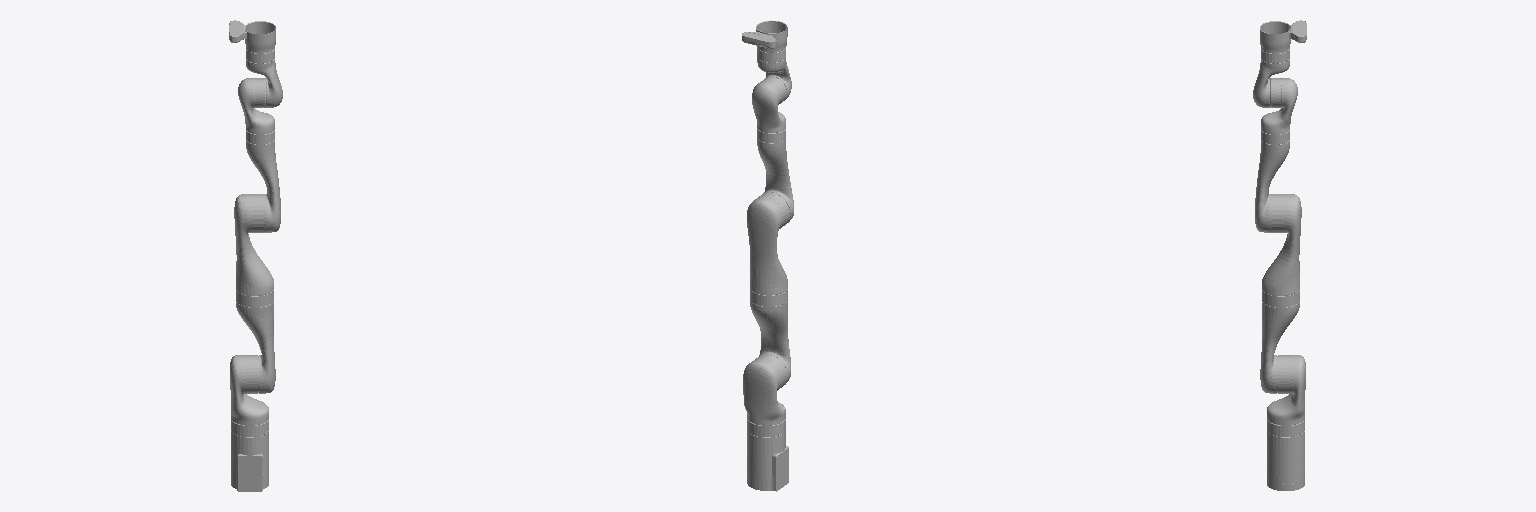
robot.urdf — GEN3_URDF_V12:
<robot name="GEN3_URDF_V12">
  <link name="base_link">
    <inertial>
      <origin xyz="-0.000648 -0.000166 0.084487" rpy="0 0 0" />
      <mass value="1.697" />
      <inertia ixx="0.004622" ixy="9E-06" ixz="6E-05" iyy="0.004495" iyz="9E-06" izz="0.002079" />
    </inertial>
    <visual>
      <origin xyz="0 0 0" rpy="0 0 0" />
      <geometry>
        <mesh filename="package://project/script/environment_description/gen3/7dof/meshes/base_link.obj" />
      </geometry>
      <material name="">
        <color rgba="0.75294 0.75294 0.75294 1" />
      </material>
    </visual>
    <collision>
      <origin xyz="0 0 0" rpy="0 0 0" />
      <geometry>
        <mesh filename="package://project/script/environment_description/gen3/7dof/meshes/base_link.obj" />
      </geometry>
    </collision>
  </link>
  <link name="Shoulder_Link">
    <inertial>
      <origin xyz="-2.3E-05 -0.010364 -0.07336" rpy="0 0 0" />
      <mass value="1.3773" />
      <inertia ixx="0.00457" ixy="1E-06" ixz="2E-06" iyy="0.004831" iyz="0.000448" izz="0.001409" />
    </inertial>
    <visual>
      <origin xyz="0 0 0" rpy="0 0 0" />
      <geometry>
        <mesh filename="package://project/script/environment_description/gen3/7dof/meshes/shoulder_link.obj" />
      </geometry>
      <material name="">
        <color rgba="0.75294 0.75294 0.75294 1" />
      </material>
    </visual>
    <collision>
      <origin xyz="0 0 0" rpy="0 0 0" />
      <geometry>
        <mesh filename="package://project/script/environment_description/gen3/7dof/meshes/shoulder_link.obj" />
      </geometry>
    </collision>
  </link>
  <joint name="Actuator1" type="continuous">
    <origin xyz="0 0 0.15643" rpy="3.1416 2.7629E-18 -4.9305E-36" />
    <parent link="base_link" />
    <child link="Shoulder_Link" />
    <axis xyz="0 0 1" />
    <limit lower="-1.57" upper="1.57" effort="39" velocity="0.8727" />
  </joint>
  <link name="HalfArm1_Link">
    <inertial>
      <origin xyz="-4.4E-05 -0.09958 -0.013278" rpy="0 0 0" />
      <mass value="1.1636" />
      <inertia ixx="0.011088" ixy="5E-06" ixz="0" iyy="0.001072" iyz="-0.000691" izz="0.011255" />
    </inertial>
    <visual>
      <origin xyz="0 0 0" rpy="0 0 0" />
      <geometry>
        <mesh filename="package://project/script/environment_description/gen3/7dof/meshes/half_arm_1_link.obj" />
      </geometry>
      <material name="">
        <color rgba="0.75294 0.75294 0.75294 1" />
      </material>
    </visual>
    <collision>
      <origin xyz="0 0 0" rpy="0 0 0" />
      <geometry>
        <mesh filename="package://project/script/environment_description/gen3/7dof/meshes/half_arm_1_link.obj" />
      </geometry>
    </collision>
  </link>
  <joint name="Actuator2" type="revolute">
    <origin xyz="0 0.005375 -0.12838" rpy="1.5708 2.1343E-17 -1.1102E-16" />
    <parent link="Shoulder_Link" />
    <child link="HalfArm1_Link" />
    <axis xyz="0 0 1" />
    <limit lower="-2.41" upper="2.41" effort="39" velocity="0.8727" />
  </joint>
  <link name="HalfArm2_Link">
    <inertial>
      <origin xyz="-4.4E-05 -0.006641 -0.117892" rpy="0 0 0" />
      <mass value="1.1636" />
      <inertia ixx="0.010932" ixy="0" ixz="-7E-06" iyy="0.011127" iyz="0.000606" izz="0.001043" />
    </inertial>
    <visual>
      <origin xyz="0 0 0" rpy="0 0 0" />
      <geometry>
        <mesh filename="package://project/script/environment_description/gen3/7dof/meshes/half_arm_2_link.obj" />
      </geometry>
      <material name="">
        <color rgba="0.75294 0.75294 0.75294 1" />
      </material>
    </visual>
    <collision>
      <origin xyz="0 0 0" rpy="0 0 0" />
      <geometry>
        <mesh filename="package://project/script/environment_description/gen3/7dof/meshes/half_arm_2_link.obj" />
      </geometry>
    </collision>
  </link>
  <joint name="Actuator3" type="continuous">
    <origin xyz="0 -0.21038 -0.006375" rpy="-1.5708 1.2326E-32 -2.9122E-16" />
    <parent link="HalfArm1_Link" />
    <child link="HalfArm2_Link" />
    <axis xyz="0 0 1" />
    <limit lower="-1.57" upper="1.57" effort="39" velocity="0.8727" />
  </joint>
  <link name="ForeArm_Link">
    <inertial>
      <origin xyz="-1.8E-05 -0.075478 -0.015006" rpy="0 0 0" />
      <mass value="0.9302" />
      <inertia ixx="0.008147" ixy="-1E-06" ixz="0" iyy="0.000631" iyz="-0.0005" izz="0.008316" />
    </inertial>
    <visual>
      <origin xyz="0 0 0" rpy="0 0 0" />
      <geometry>
        <mesh filename="package://project/script/environment_description/gen3/7dof/meshes/forearm_link.obj" />
      </geometry>
      <material name="">
        <color rgba="0.75294 0.75294 0.75294 1" />
      </material>
    </visual>
    <collision>
      <origin xyz="0 0 0" rpy="0 0 0" />
      <geometry>
        <mesh filename="package://project/script/environment_description/gen3/7dof/meshes/forearm_link.obj" />
      </geometry>
    </collision>
  </link>
  <joint name="Actuator4" type="revolute">
    <origin xyz="0 0.006375 -0.21038" rpy="1.5708 -6.6954E-17 -1.6653E-16" />
    <parent link="HalfArm2_Link" />
    <child link="ForeArm_Link" />
    <axis xyz="0 0 1" />
    <limit lower="-2.66" upper="2.66" effort="39" velocity="0.8727" />
  </joint>
  <link name="SphericalWrist1_Link">
    <inertial>
      <origin xyz="1E-06 -0.009432 -0.063883" rpy="0 0 0" />
      <mass value="0.6781" />
      <inertia ixx="0.001596" ixy="0" ixz="0" iyy="0.001607" iyz="0.000256" izz="0.000399" />
    </inertial>
    <visual>
      <origin xyz="0 0 0" rpy="0 0 0" />
      <geometry>
        <mesh filename="package://project/script/environment_description/gen3/7dof/meshes/spherical_wrist_1_link.obj" />
      </geometry>
      <material name="">
        <color rgba="0.75294 0.75294 0.75294 1" />
      </material>
    </visual>
    <collision>
      <origin xyz="0 0 0" rpy="0 0 0" />
      <geometry>
        <mesh filename="package://project/script/environment_description/gen3/7dof/meshes/spherical_wrist_1_link.obj" />
      </geometry>
    </collision>
  </link>
  <joint name="Actuator5" type="continuous">
    <origin xyz="0 -0.20843 -0.006375" rpy="-1.5708 2.2204E-16 -6.373E-17" />
    <parent link="ForeArm_Link" />
    <child link="SphericalWrist1_Link" />
    <axis xyz="0 0 1" />
    <limit lower="-1.57" upper="1.57" effort="9" velocity="0.8727" />
  </joint>
  <link name="SphericalWrist2_Link">
    <inertial>
      <origin xyz="1E-06 -0.045483 -0.00965" rpy="0 0 0" />
      <mass value="0.6781" />
      <inertia ixx="0.001641" ixy="0" ixz="0" iyy="0.00041" iyz="-0.000278" izz="0.001641" />
    </inertial>
    <visual>
      <origin xyz="0 0 0" rpy="0 0 0" />
      <geometry>
        <mesh filename="package://project/script/environment_description/gen3/7dof/meshes/spherical_wrist_2_link.obj" />
      </geometry>
      <material name="">
        <color rgba="0.75294 0.75294 0.75294 1" />
      </material>
    </visual>
    <collision>
      <origin xyz="0 0 0" rpy="0 0 0" />
      <geometry>
        <mesh filename="package://project/script/environment_description/gen3/7dof/meshes/spherical_wrist_2_link.obj" />
      </geometry>
    </collision>
  </link>
  <joint name="Actuator6" type="revolute">
    <origin xyz="0 0.00017505 -0.10593" rpy="1.5708 9.2076E-28 -8.2157E-15" />
    <parent link="SphericalWrist1_Link" />
    <child link="SphericalWrist2_Link" />
    <axis xyz="0 0 1" />
    <limit lower="-2.23" upper="2.23" effort="9" velocity="0.8727" />
  </joint>
  <link name="Bracelet_Link">
    <inertial>
      <origin xyz="-0.000281 -0.011402 -0.029798" rpy="0 0 0" />
      <mass value="0.5006" />
      <inertia ixx="0.000587" ixy="3E-06" ixz="3E-06" iyy="0.000369" iyz="0.000118" izz="0.000609" />
    </inertial>
    <visual>
      <origin xyz="0 0 0" rpy="0 0 0" />
      <geometry>
        <mesh filename="package://project/script/environment_description/gen3/7dof/meshes/bracelet_with_vision_link.obj" />
      </geometry>
      <material name="">
        <color rgba="0.75294 0.75294 0.75294 1" />
      </material>
    </visual>
    <collision>
      <origin xyz="0 0 0" rpy="0 0 0" />
      <geometry>
        <mesh filename="package://project/script/environment_description/gen3/7dof/meshes/bracelet_with_vision_link.obj" />
      </geometry>
    </collision>
  </link>
  <joint name="Actuator7" type="continuous">
    <origin xyz="0 -0.10593 -0.00017505" rpy="-1.5708 -5.5511E-17 9.6396E-17" />
    <parent link="SphericalWrist2_Link" />
    <child link="Bracelet_Link" />
    <axis xyz="0 0 1" />
    <limit lower="-1.57" upper="1.57" effort="9" velocity="0.8727" />
  </joint>
  <link name="EndEffector_Link" />
  <joint name="EndEffector" type="fixed">
    <origin xyz="0 0 -0.0615250000000001" rpy="3.14159265358979 1.09937075168372E-32 0" />
    <parent link="Bracelet_Link" />
    <child link="EndEffector_Link" />
    <axis xyz="0 0 0" />
  </joint>
</robot>

--- What the picture shows (computed from the rendered views, not written in the file) ---
The picture shows the robot from 3 angles, left to right: view 1: azimuth 90°, elevation 25°; view 2: azimuth 150°, elevation 25°; view 3: azimuth 270°, elevation 25°; orthographic projection.
Model GEN3_URDF_V12 with 9 links and 8 joints (3 revolute, 4 continuous, 1 fixed), rooted at base_link, posed every joint at zero.
Links seen in each view (by area): view 1: HalfArm2_Link, base_link, HalfArm1_Link, Shoulder_Link, ForeArm_Link, SphericalWrist1_Link, Bracelet_Link, SphericalWrist2_Link; view 2: HalfArm2_Link, base_link, Shoulder_Link, HalfArm1_Link, ForeArm_Link, SphericalWrist1_Link, Bracelet_Link, SphericalWrist2_Link; view 3: HalfArm2_Link, base_link, HalfArm1_Link, Shoulder_Link, ForeArm_Link, SphericalWrist1_Link, Bracelet_Link, SphericalWrist2_Link.
Link boxes in pixels (x1=…): HalfArm2_Link: x1=234, y1=194, x2=273, y2=295; base_link: x1=231, y1=420, x2=268, y2=491; HalfArm1_Link: x1=236, y1=290, x2=275, y2=393; Shoulder_Link: x1=230, y1=355, x2=268, y2=425; ForeArm_Link: x1=246, y1=130, x2=280, y2=232; SphericalWrist1_Link: x1=238, y1=78, x2=274, y2=134; Bracelet_Link: x1=229, y1=20, x2=275, y2=53; SphericalWrist2_Link: x1=246, y1=49, x2=282, y2=107; HalfArm2_Link: x1=747, y1=192, x2=789, y2=295; base_link: x1=747, y1=418, x2=788, y2=491; Shoulder_Link: x1=743, y1=354, x2=786, y2=425; HalfArm1_Link: x1=750, y1=289, x2=790, y2=384; ForeArm_Link: x1=757, y1=128, x2=793, y2=222; SphericalWrist1_Link: x1=752, y1=76, x2=786, y2=132; Bracelet_Link: x1=742, y1=20, x2=787, y2=52; SphericalWrist2_Link: x1=757, y1=48, x2=791, y2=100; HalfArm2_Link: x1=1262, y1=194, x2=1301, y2=295; base_link: x1=1267, y1=420, x2=1304, y2=490; HalfArm1_Link: x1=1260, y1=290, x2=1299, y2=393; Shoulder_Link: x1=1267, y1=355, x2=1305, y2=425; ForeArm_Link: x1=1255, y1=130, x2=1289, y2=232; SphericalWrist1_Link: x1=1261, y1=78, x2=1297, y2=134; Bracelet_Link: x1=1260, y1=20, x2=1306, y2=53; SphericalWrist2_Link: x1=1253, y1=49, x2=1289, y2=107.
Bounding box of the posed robot: 0.0928 × 0.1278 × 1.19 m (x, y, z).
8 mesh visuals loaded from 8 distinct referenced files (8 OBJ).